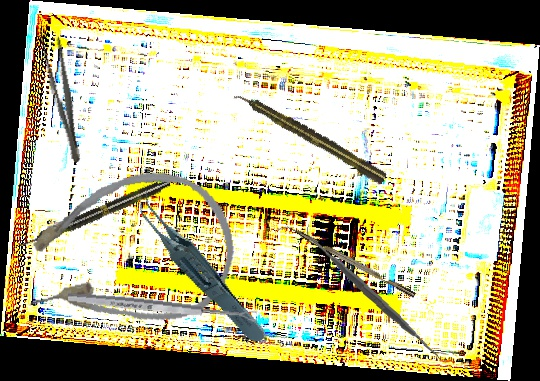Cannula: (9, 158, 245, 346)
Chopper: (276, 219, 417, 305)
Dressing Forceps: (35, 26, 90, 165)
Handpiece: (231, 86, 389, 187), (17, 175, 173, 253)
Spatula Surgical: (300, 223, 446, 368)
Surgical Spoon: (67, 290, 258, 324)
Tissue Forceps: (132, 169, 269, 363)
